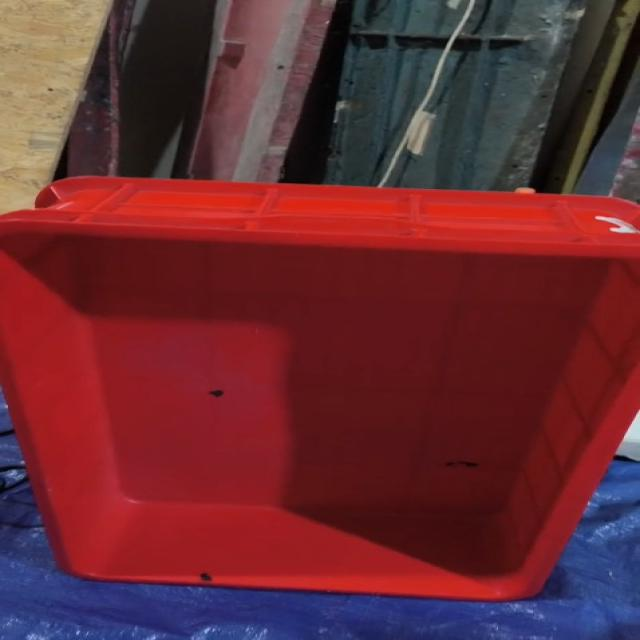red plastic box: (0, 175, 639, 601)
